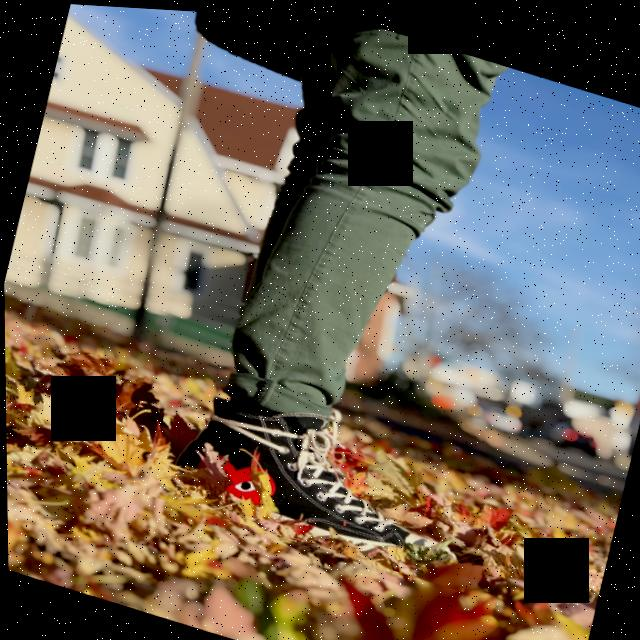shoe: (142, 361, 503, 590)
